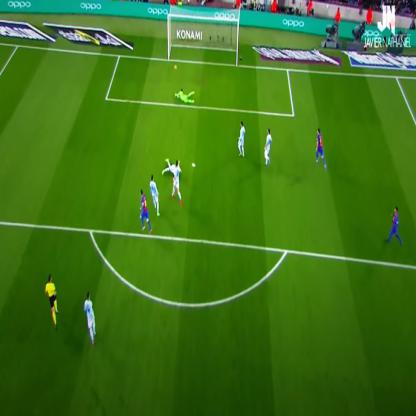goal: (9, 16, 403, 409)
